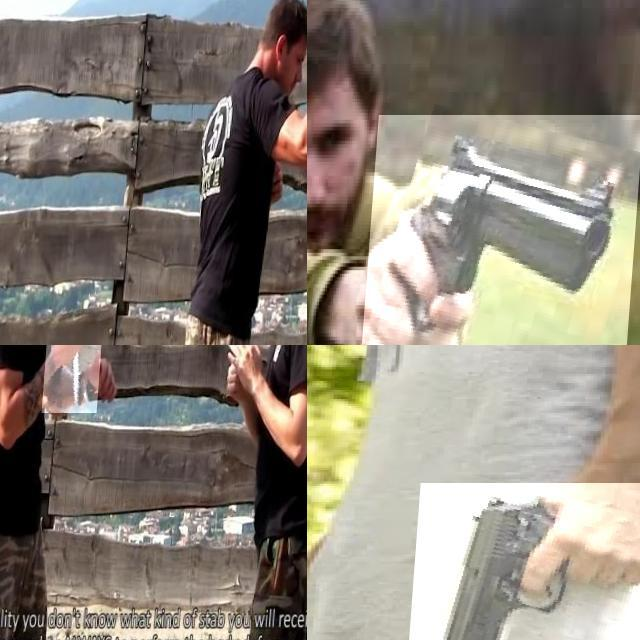-: (46, 345, 108, 413)
gun-knife-thesis - v11 Yolov5 augmented: (362, 115, 640, 345), (411, 483, 640, 640)
